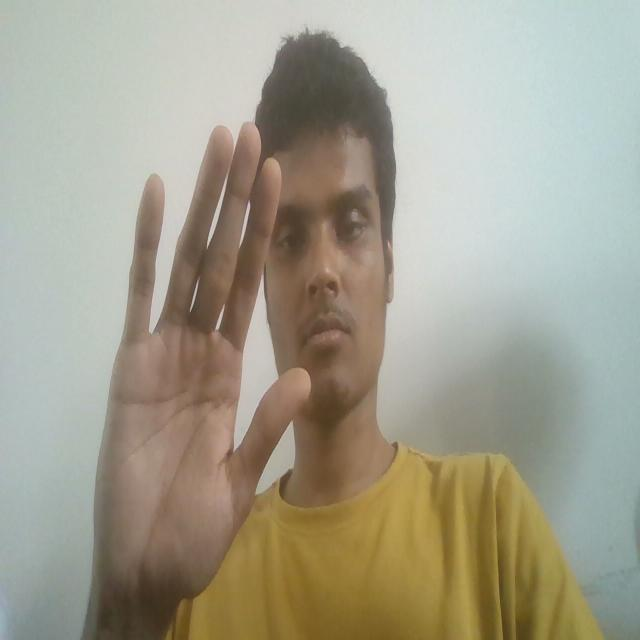Hello: (81, 111, 318, 640)
